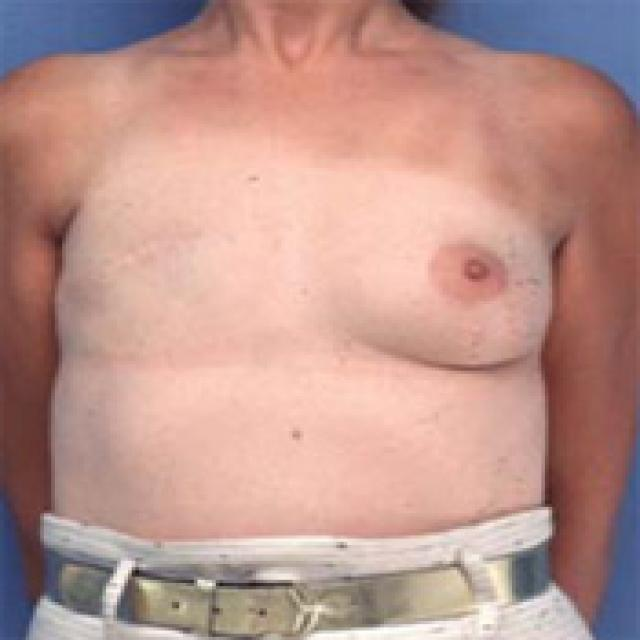Seno herido: (44, 162, 297, 396)
Seno ileso: (310, 162, 565, 391)
